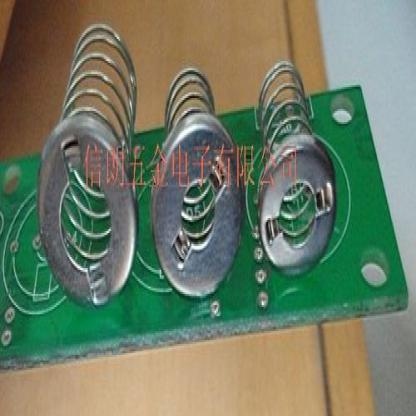FOD: (56, 18, 140, 264), (257, 55, 319, 241), (161, 66, 218, 263)
